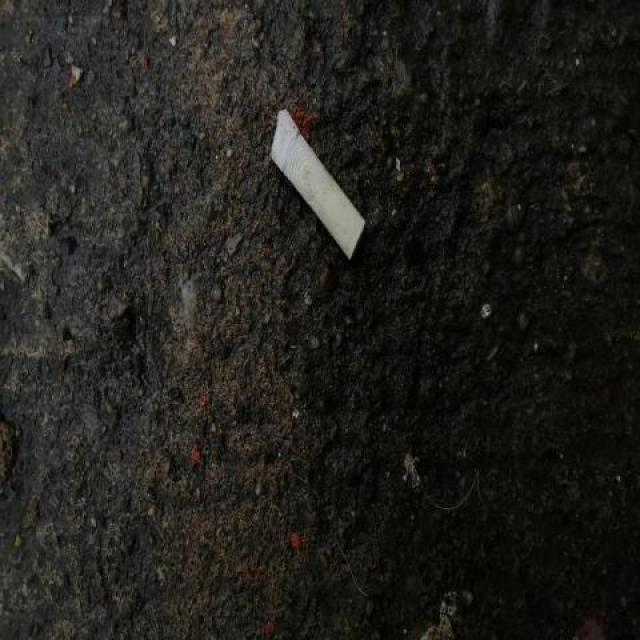non-organic waste: (264, 103, 371, 268)
